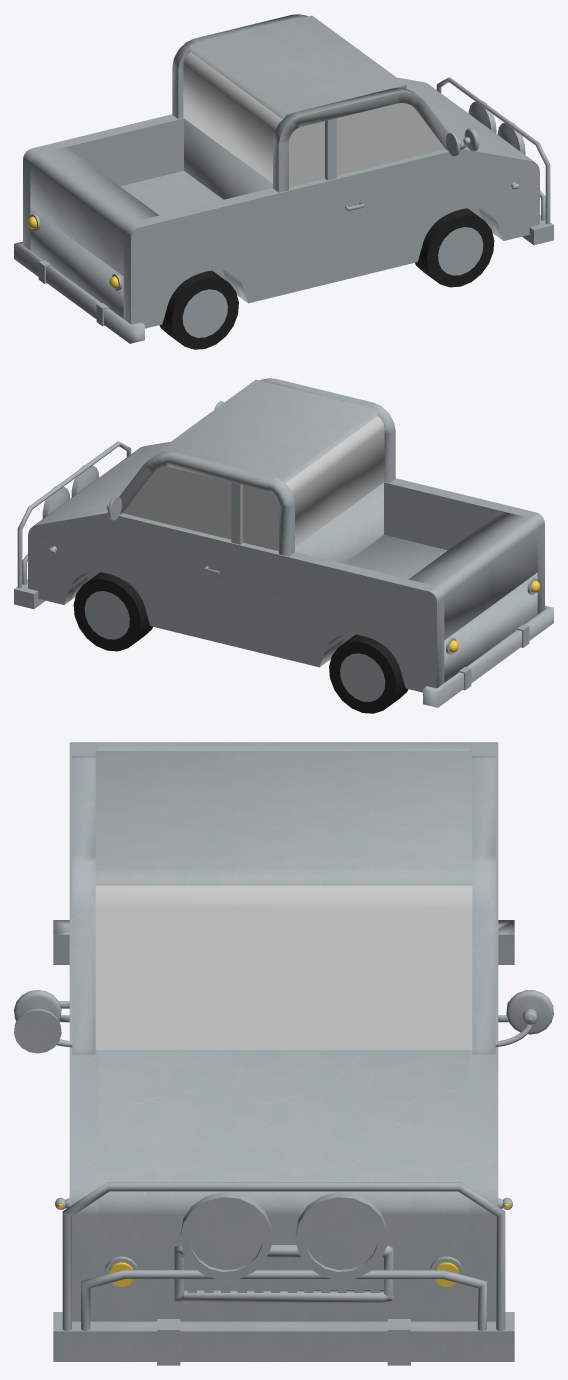
The model's file is PickUp_2.fbx.
3 views of the same model, one above another, from view 1: azimuth 30°, elevation 25°; view 2: azimuth 150°, elevation 25°; view 3: azimuth 270°, elevation 25° (orthographic). The views are drawn at different scales.
Visible parts, largest first — view 1: Pickup.001, Glass, Roof, Back.001, Pickup, Back, Front, Frame.002, Tire.001, Tire.003, Bumper, Simple.004 (+8 smaller); view 2: Pickup, Glass, Roof, Back.001, Pickup.001, Back, Front, Frame, Tire, Tire.002, Bumper, Simple (+7 smaller); view 3: Front, Glass, Roof, Rack, Pickup, Pickup.001, Frame, Frame.002, Frame.017, Light.001, Light, Frame.018 (+8 smaller).
Part boxes in pixels (x1,y1,x2,y2): Pickup.001: (123, 145, 539, 328); Glass: (183, 52, 445, 187); Roof: (190, 15, 406, 119); Back.001: (30, 147, 159, 276); Pickup: (23, 77, 433, 250); Back: (30, 171, 240, 318); Front: (184, 83, 527, 235); Frame.002: (273, 88, 448, 192); Tire.001: (415, 208, 494, 287); Tire.003: (159, 270, 238, 349); Bumper: (14, 241, 144, 343); Simple.004: (182, 289, 227, 337); Pickup: (28, 509, 444, 692); Glass: (122, 416, 384, 551); Roof: (161, 379, 377, 483); Back.001: (408, 511, 537, 640); Pickup.001: (134, 441, 544, 614); Back: (327, 535, 537, 682); Front: (40, 447, 383, 599); Frame: (119, 452, 294, 556); Tire: (73, 572, 152, 651); Tire.002: (329, 634, 408, 713); Bumper: (423, 605, 553, 707); Simple: (84, 591, 129, 639); Front: (98, 1050, 469, 1321); Glass: (95, 885, 472, 1049); Roof: (95, 751, 472, 885); Rack: (53, 1312, 514, 1361); Pickup: (469, 742, 498, 1321); Pickup.001: (69, 742, 98, 1321); Frame: (472, 756, 495, 1054); Frame.002: (72, 756, 95, 1054); Frame.017: (62, 1182, 505, 1330); Light.001: (180, 1192, 271, 1280); Light: (295, 1192, 386, 1280); Frame.018: (81, 1270, 486, 1330).
Bounding box in the file's own units: 428 × 198 × 234.
